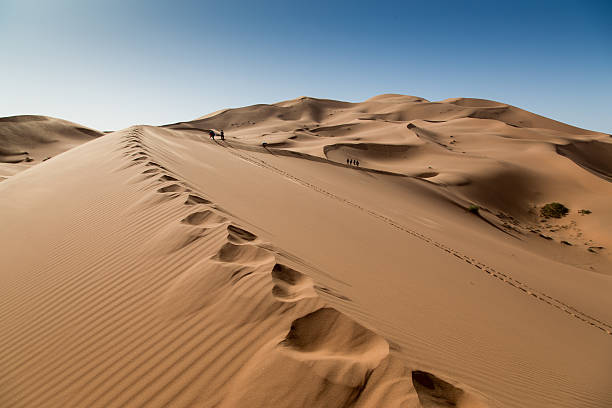human_footprint: (304, 304, 388, 367), (259, 256, 322, 304), (406, 369, 474, 408), (219, 221, 254, 259), (184, 209, 220, 239), (182, 195, 224, 214), (162, 184, 186, 202)
